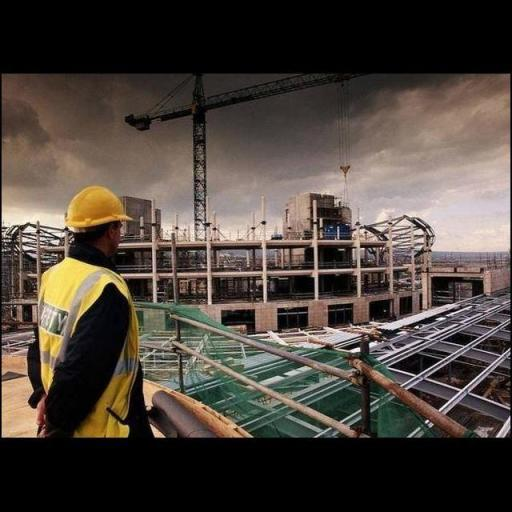Person: (20, 177, 178, 459)
helmet: (63, 184, 135, 230)
vest: (32, 255, 156, 442)
